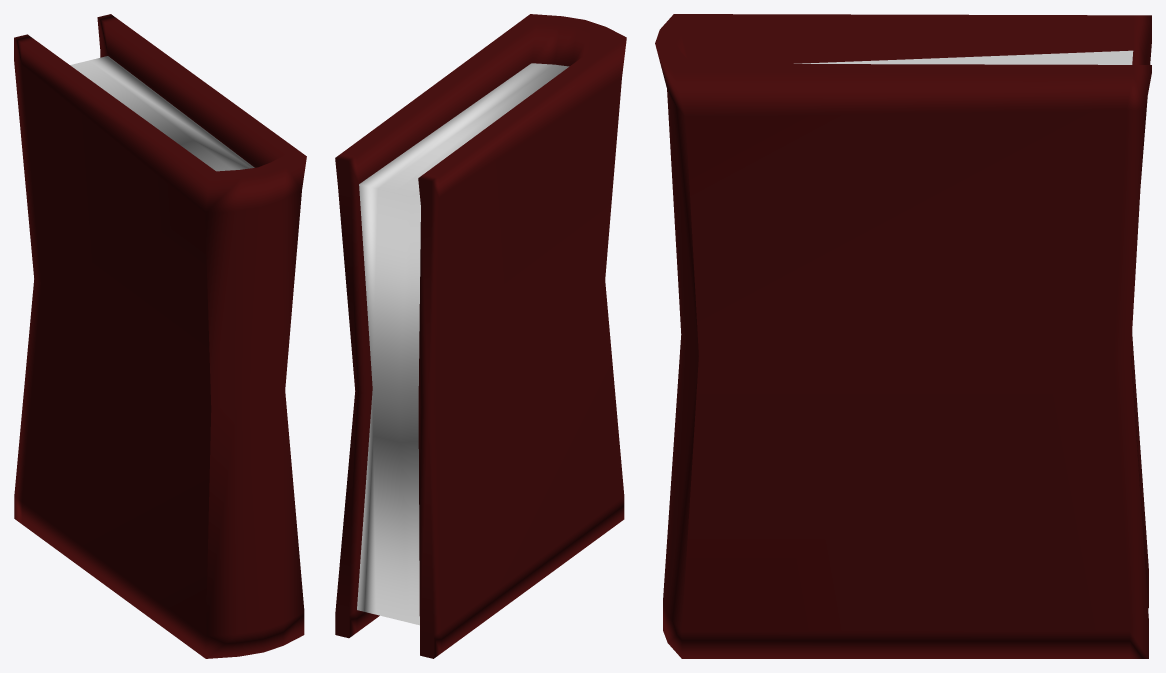
The model's file is RedBook.fbx.
3 views of the same model, side by side, from view 1: azimuth 30°, elevation 25°; view 2: azimuth 150°, elevation 25°; view 3: azimuth 270°, elevation 25° (orthographic). The views are drawn at different scales.
Parts seen in each view (by area): view 1: RedBook; view 2: RedBook; view 3: RedBook.
Boxes of the visible parts, <box> form: RedBook: <box>14,14,306,658</box>; RedBook: <box>335,14,626,658</box>; RedBook: <box>655,14,1151,658</box>.
Size of the model in its own units: 177 by 825 by 633.
